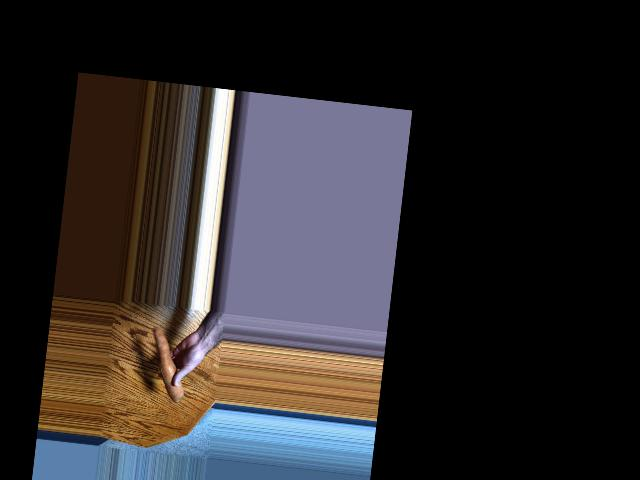sweet_potato: (150, 326, 182, 404)
